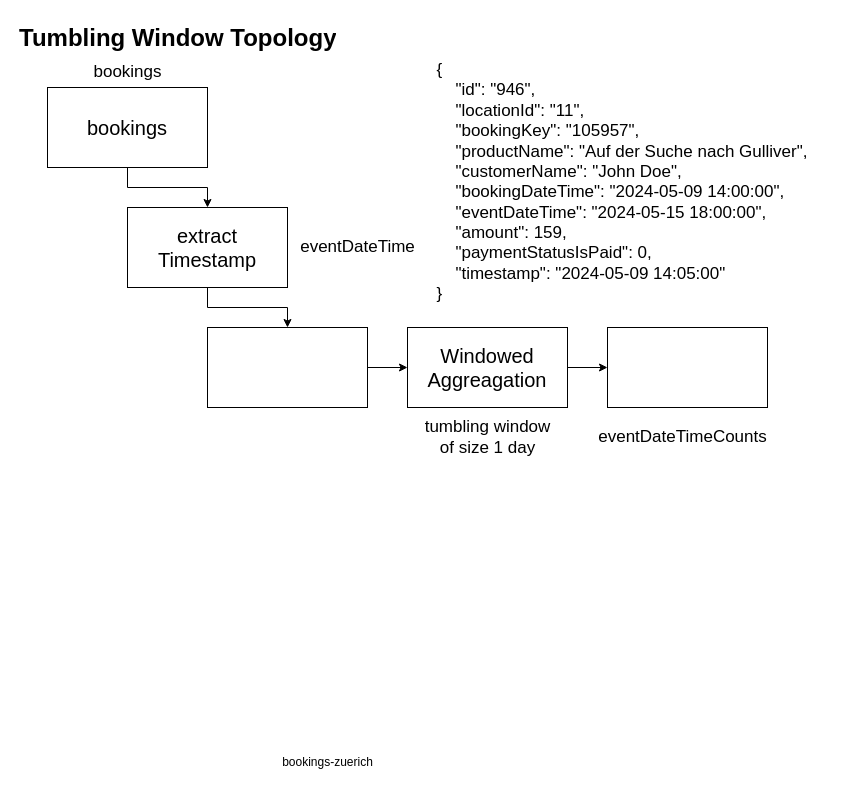
This 851x794 diagram has some shape labels left out. Here are the shapes that lost their labels. From the top down, the centre of each, then its label:
At pixel 287 367: "groupbyKey locationId".
At pixel 687 367: "Count".
